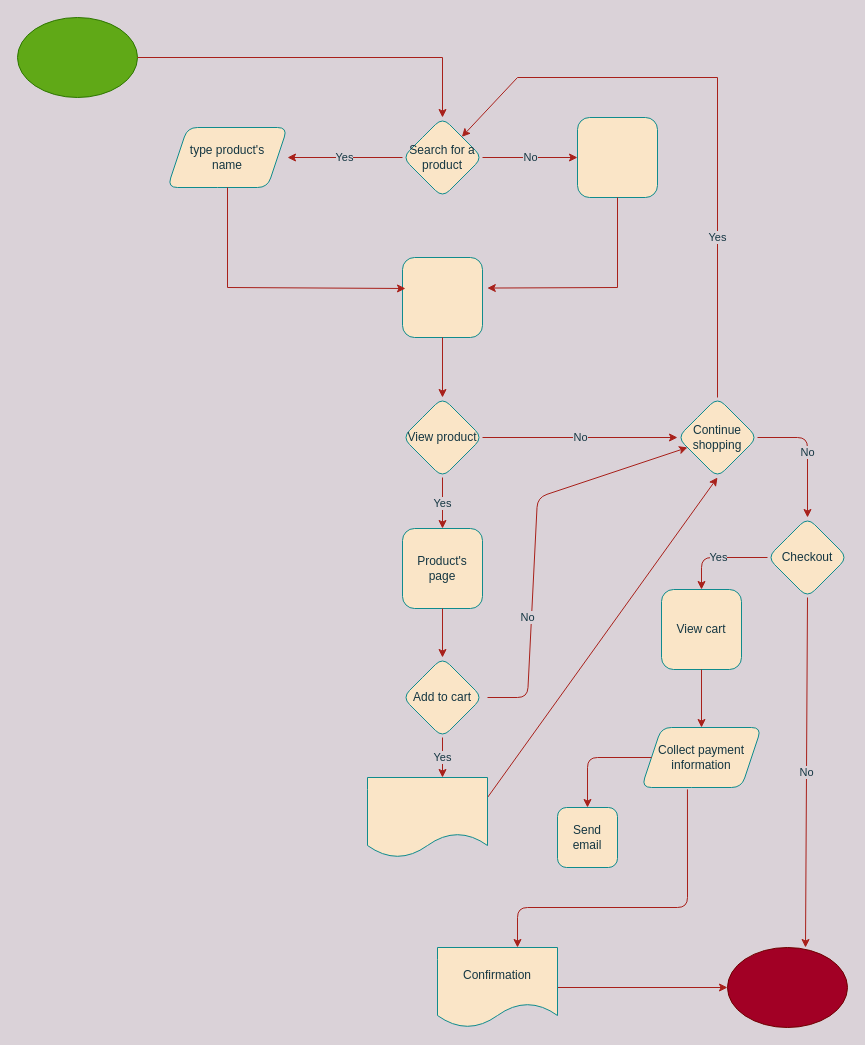
Image size: 865x1045. Some labels were removed from this diagram. Here are the shapes that lost their labels. From the top down, the centre of each, then its label:
At (x=77, y=57): "Enter website".
At (x=617, y=157): "Explore website".
At (x=442, y=297): "Be presented with a product".
At (x=427, y=817): "Confirm product added".
At (x=787, y=987): "Leave website".
